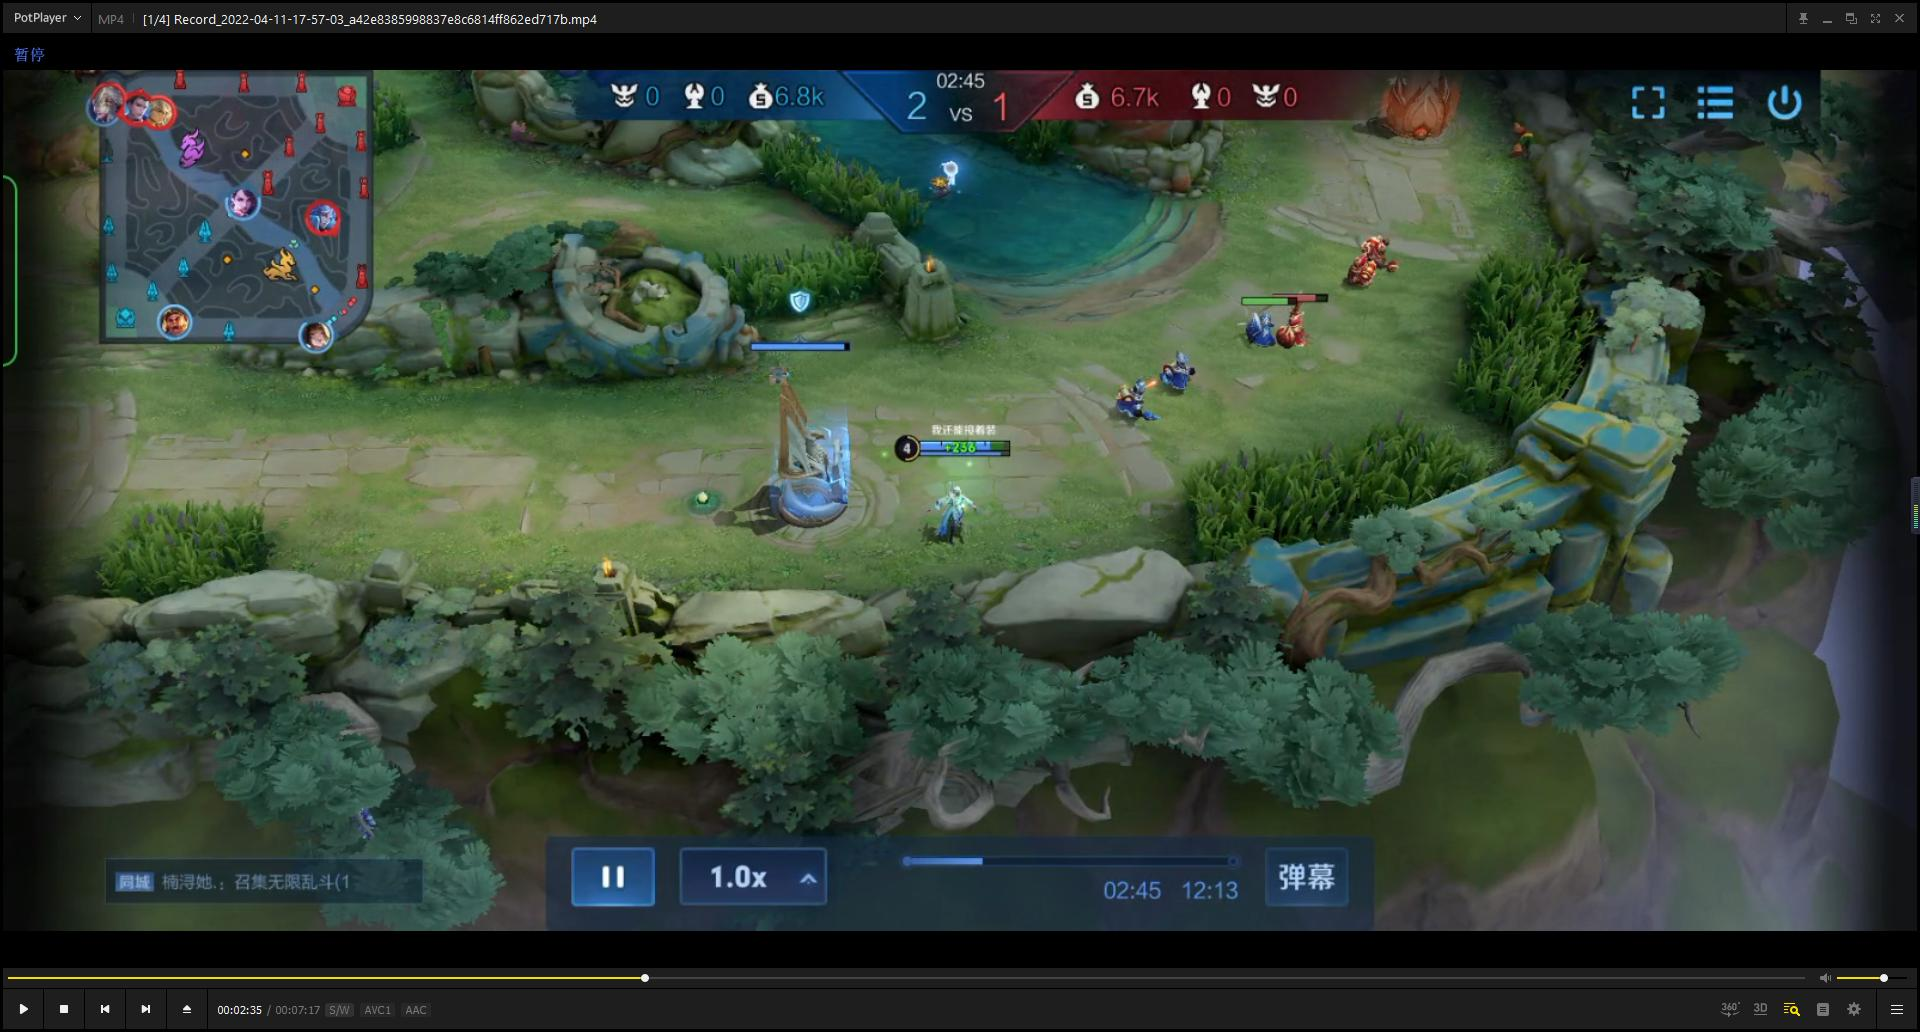Hero: (901, 472, 1003, 547)
Solider: (1273, 263, 1342, 383), (1147, 330, 1229, 414), (1226, 280, 1287, 376), (1341, 216, 1428, 280), (1100, 370, 1158, 449), (1318, 235, 1377, 295)
Spirit: (909, 140, 989, 211)
Tower: (717, 325, 882, 525), (1360, 66, 1479, 150)
